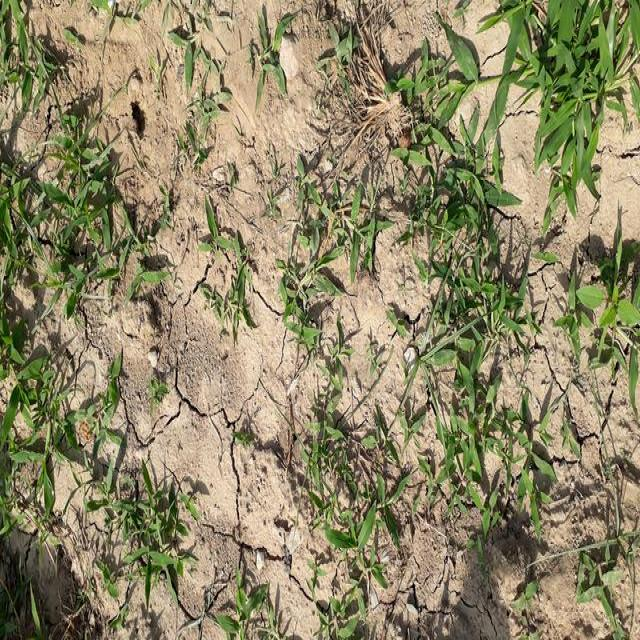weed: (398, 249, 557, 547), (477, 3, 640, 228), (0, 0, 118, 257), (0, 279, 103, 552), (276, 167, 379, 353), (400, 58, 488, 254), (574, 232, 640, 380), (300, 402, 376, 508), (197, 204, 251, 347), (320, 515, 378, 640), (118, 484, 190, 583), (122, 216, 168, 335), (208, 584, 283, 640), (575, 548, 626, 617), (246, 17, 288, 98), (319, 23, 363, 85), (314, 343, 352, 401), (166, 26, 200, 83), (199, 76, 231, 136), (514, 568, 536, 622), (233, 420, 259, 454), (106, 359, 125, 399), (148, 377, 167, 410)
